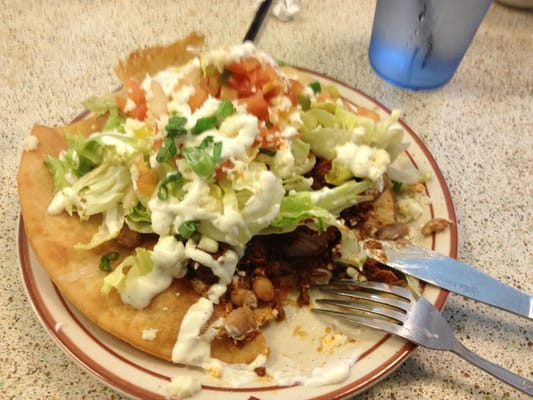burger: (309, 273, 533, 396), (364, 236, 533, 320)
pizza: (368, 0, 495, 92)
sandwich: (362, 238, 533, 319)
